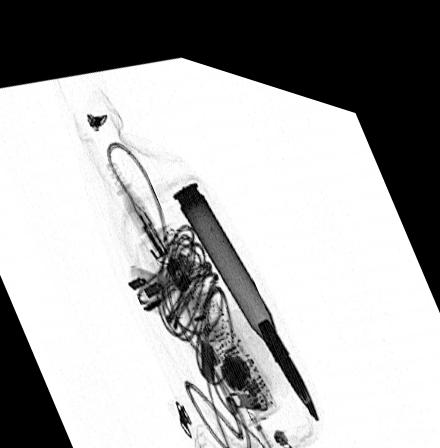Bullet: (173, 168, 318, 401)
